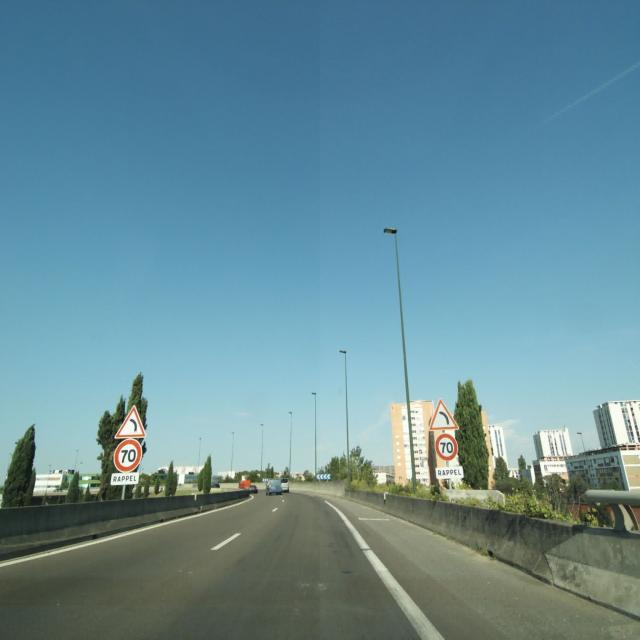car: (265, 478, 283, 495), (280, 478, 290, 492), (248, 483, 259, 493)
